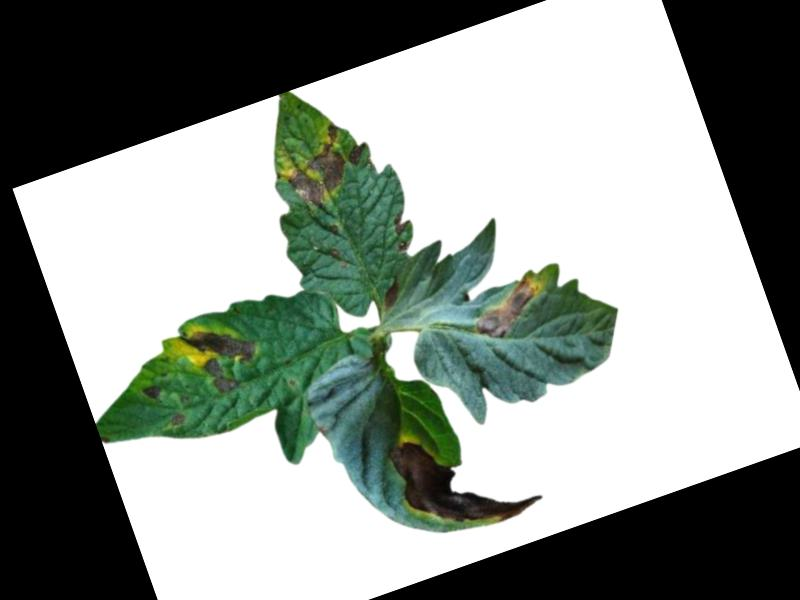Early_blight: (385, 405, 546, 550), (273, 120, 361, 215), (177, 312, 267, 403), (463, 267, 556, 346), (387, 209, 417, 254), (377, 275, 406, 311), (345, 140, 371, 168), (140, 382, 164, 406), (168, 410, 188, 428)
